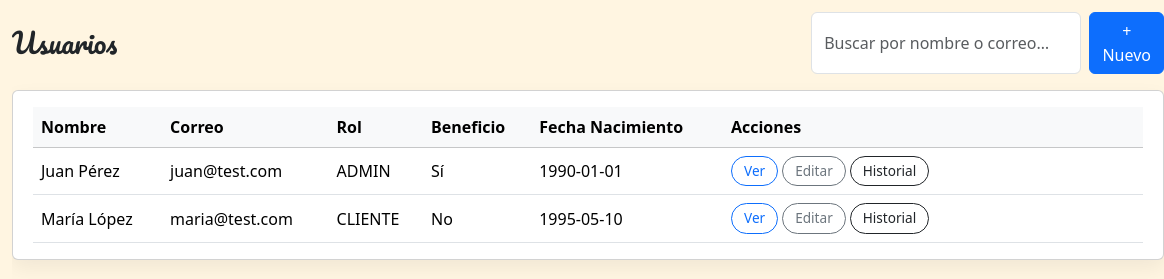
Test: Admin - Users › TAU-Admin 02: Permite filtrar usuarios por nombre o correo
Expected: the text "Juan Pérez" is shown, [33,148,162,195]
Type "maría" into the field with placeholder "Buscar por nombre o correo…". click: (946, 43)
box: [811,12,1081,74]
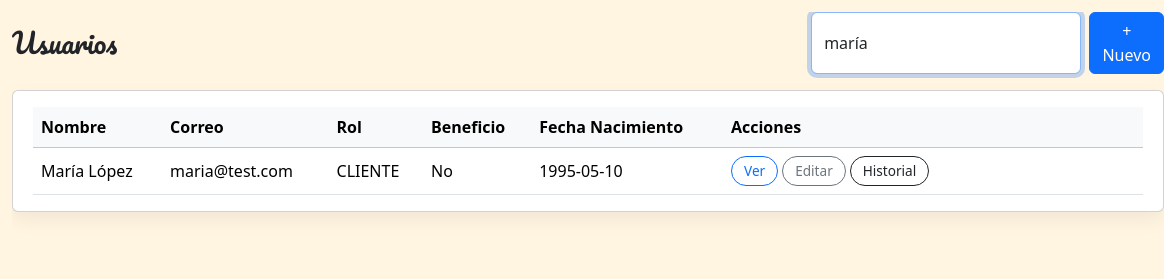
Expected: the text "María López" is shown, [33,148,162,195]
Result: the text "Juan Pérez" is gone
